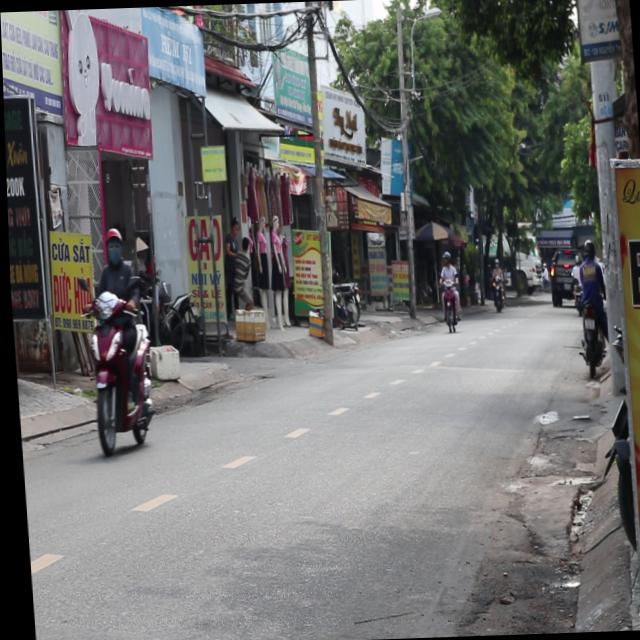helmet: (100, 226, 121, 265)
licenseplate: (73, 223, 156, 454)
